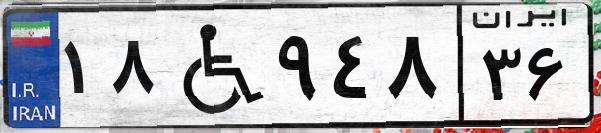1: (57, 26, 110, 100)
3: (475, 38, 525, 113)
4: (330, 28, 385, 110)
6: (525, 38, 570, 115)
8: (385, 28, 445, 110), (110, 28, 158, 98)
9: (270, 28, 330, 110)
ژ (معلولین و جانبازان): (158, 12, 270, 120)
